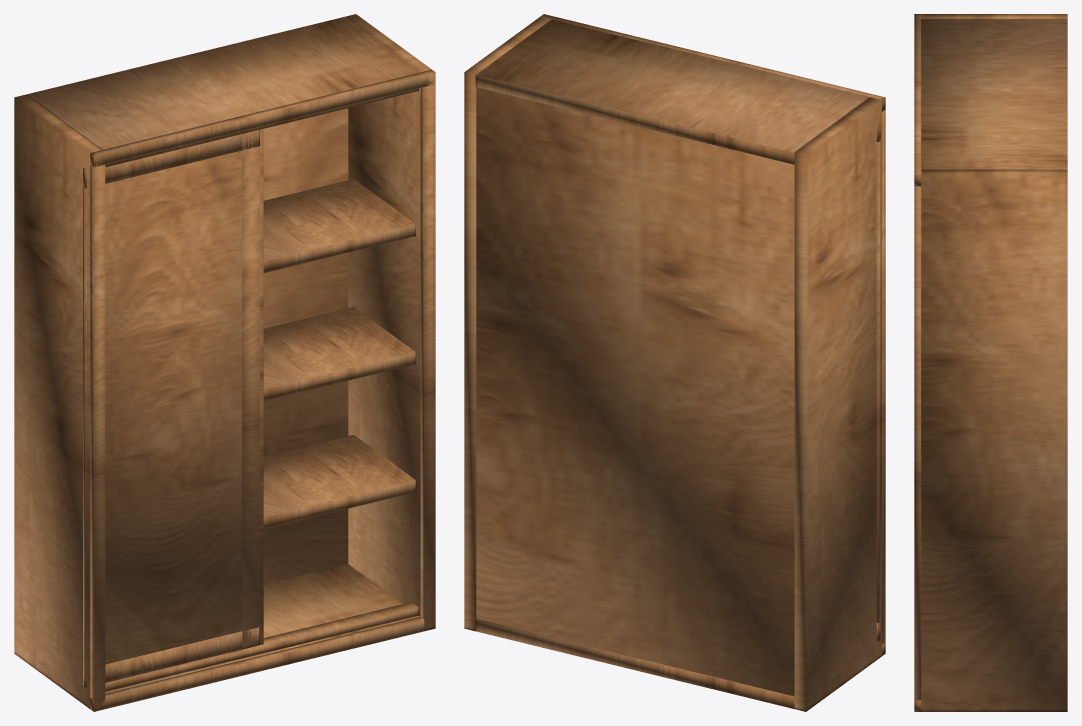
File: lemari.glb
The picture shows the model from 3 angles, left to right: view 1: azimuth 30°, elevation 25°; view 2: azimuth 150°, elevation 25°; view 3: azimuth 270°, elevation 25°; orthographic projection. The views are drawn at different scales.
Visible parts, largest first — view 1: Sliding_Door_Panel, Frame_Side_L, Frame_Side_R, Frame_Top, Back_Panel, Shelf_2, Shelf_1, Shelf_3, Door_Frame_R, Front_Fascia_R, Front_Fascia_L, Frame_Bottom (+8 smaller); view 2: Back_Panel, Frame_Side_L, Frame_Top, Frame_Side_R, Frame_Bottom, Door_Frame_L, Front_Fascia_L, Front_Fascia_Top; view 3: Frame_Side_R, Frame_Top, Front_Fascia_R, Front_Fascia_Top, Frame_Side_L.
Boxes of the visible parts, bbox=[...] form: Sliding_Door_Panel: bbox=[105, 150, 241, 664]; Frame_Side_L: bbox=[14, 94, 101, 708]; Frame_Side_R: bbox=[345, 14, 431, 616]; Frame_Top: bbox=[26, 17, 420, 149]; Back_Panel: bbox=[263, 108, 348, 584]; Shelf_2: bbox=[263, 307, 415, 400]; Shelf_1: bbox=[263, 435, 415, 528]; Shelf_3: bbox=[263, 179, 415, 273]; Door_Frame_R: bbox=[242, 130, 259, 649]; Front_Fascia_R: bbox=[420, 72, 435, 631]; Front_Fascia_L: bbox=[90, 154, 105, 711]; Frame_Bottom: bbox=[105, 564, 420, 693]; Back_Panel: bbox=[476, 87, 794, 696]; Frame_Side_L: bbox=[794, 97, 881, 711]; Frame_Top: bbox=[475, 19, 869, 164]; Frame_Side_R: bbox=[464, 16, 551, 631]; Frame_Bottom: bbox=[475, 619, 794, 708]; Door_Frame_L: bbox=[876, 122, 880, 633]; Front_Fascia_L: bbox=[882, 109, 885, 643]; Front_Fascia_Top: bbox=[540, 14, 885, 111]; Frame_Side_R: bbox=[921, 169, 1067, 711]; Frame_Top: bbox=[921, 19, 1067, 169]; Front_Fascia_R: bbox=[914, 175, 921, 700]; Front_Fascia_Top: bbox=[914, 14, 921, 186]; Frame_Side_L: bbox=[921, 14, 1067, 19].
Bounding box in the file's own units: 1.36 × 2.1 × 0.5445.
Materials: 1 (1 with a texture image).
